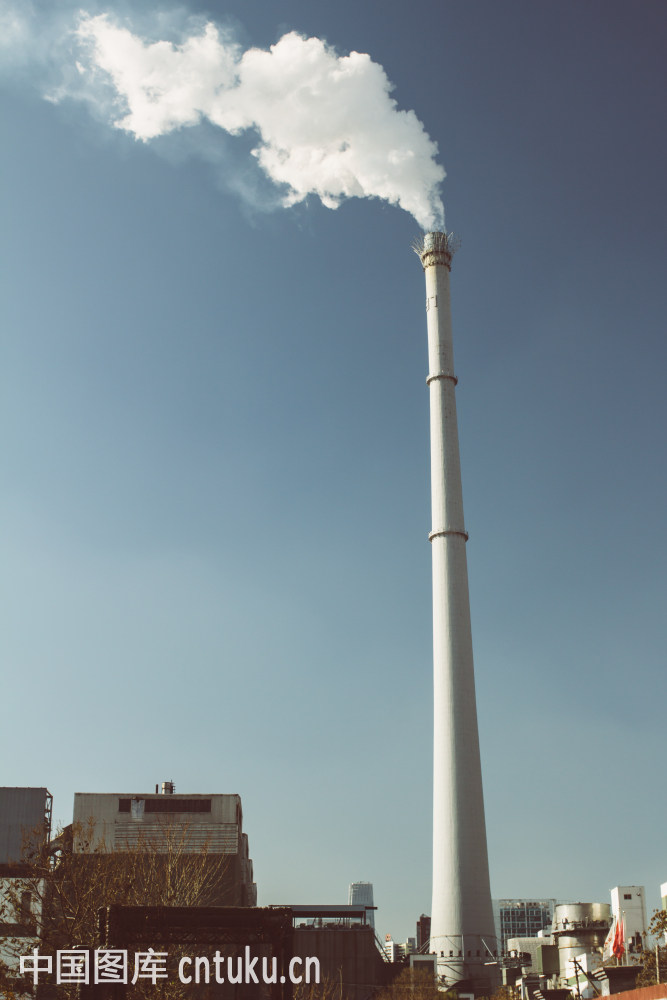dust: (119, 7, 473, 255)
